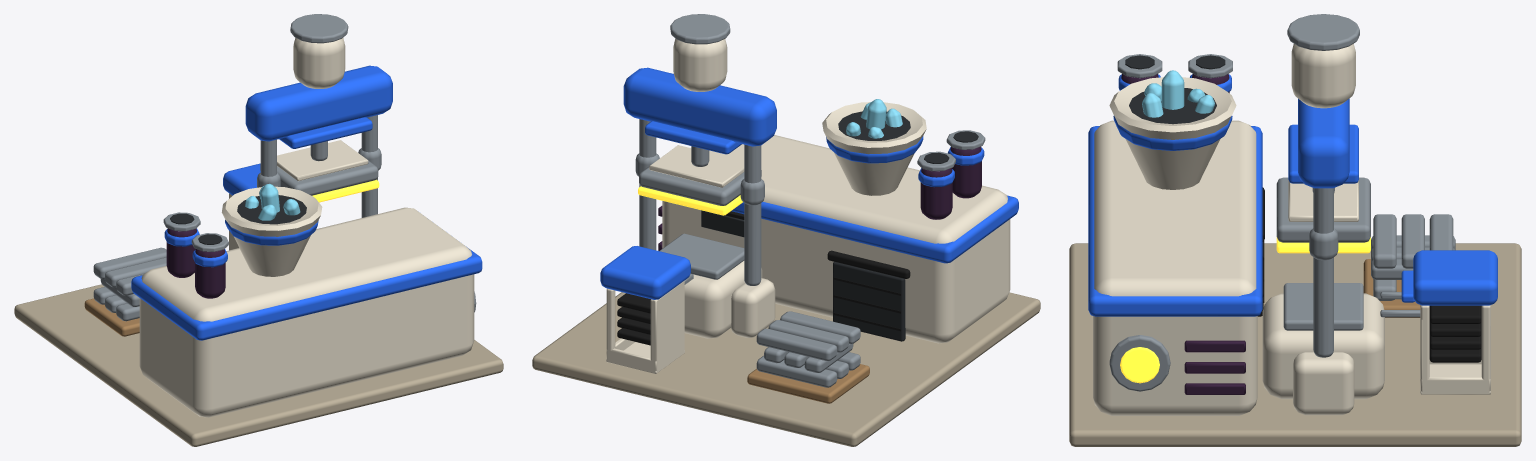
The model's file is composite_foundry.glb.
3 views of the same model, side by side, from view 1: azimuth 30°, elevation 25°; view 2: azimuth 150°, elevation 25°; view 3: azimuth 270°, elevation 25° (orthographic). The views are drawn at different scales.
Parts seen in each view (by area): view 1: stage_1__M_CreamPlastic, stage_0__M_SugarPad, stage_2__M_Team, stage_3__M_Team, stage_2__M_CreamPlastic, stage_1__M_SpringSteel, ram__M_SpringSteel, stage_2__M_SpringSteel, stage_3__M_CreamPlastic, stage_2__M_GrapeVent, ram__M_CreamPlastic, stage_3__M_SpringSteel (+4 smaller); view 2: stage_1__M_CreamPlastic, stage_0__M_SugarPad, stage_2__M_Team, stage_3__M_Team, stage_1__M_SpringSteel, stage_1__M_Dark, stage_2__M_SpringSteel, stage_2__M_CreamPlastic, ram__M_SpringSteel, stage_3__M_CreamPlastic, stage_2__M_GrapeVent, ram__M_CreamPlastic (+7 smaller); view 3: stage_1__M_CreamPlastic, stage_0__M_SugarPad, stage_2__M_Team, stage_1__M_SpringSteel, stage_2__M_CreamPlastic, stage_3__M_Team, stage_2__M_SpringSteel, stage_3__M_CreamPlastic, ram__M_SpringSteel, stack__M_Licorice, stage_1__M_GrapeVent, stage_3__M_SpringSteel (+7 smaller).
Part boxes in pixels (x1,y1,x2,y2): stage_1__M_CreamPlastic: [139, 193, 474, 417]; stage_0__M_SugarPad: [14, 284, 503, 446]; stage_2__M_Team: [131, 163, 482, 340]; stage_3__M_Team: [245, 65, 392, 148]; stage_2__M_CreamPlastic: [221, 186, 322, 276]; stage_1__M_SpringSteel: [93, 247, 476, 321]; ram__M_SpringSteel: [257, 141, 381, 195]; stage_2__M_SpringSteel: [163, 115, 377, 251]; stage_3__M_CreamPlastic: [293, 38, 345, 88]; stage_2__M_GrapeVent: [166, 228, 225, 298]; ram__M_CreamPlastic: [277, 140, 368, 181]; stage_3__M_SpringSteel: [290, 14, 348, 43]; stage_1__M_CreamPlastic: [606, 135, 1010, 371]; stage_0__M_SugarPad: [532, 292, 1040, 446]; stage_2__M_Team: [600, 136, 1018, 299]; stage_3__M_Team: [623, 67, 776, 154]; stage_1__M_SpringSteel: [659, 233, 860, 387]; stage_1__M_Dark: [701, 210, 905, 341]; stage_2__M_SpringSteel: [639, 119, 985, 285]; stage_2__M_CreamPlastic: [822, 102, 926, 195]; ram__M_SpringSteel: [635, 146, 764, 205]; stage_3__M_CreamPlastic: [673, 38, 727, 91]; stage_2__M_GrapeVent: [920, 146, 981, 219]; ram__M_CreamPlastic: [649, 145, 744, 187]; stage_1__M_CreamPlastic: [1093, 120, 1490, 415]; stage_0__M_SugarPad: [1069, 243, 1521, 446]; stage_2__M_Team: [1088, 74, 1497, 316]; stage_1__M_SpringSteel: [1109, 214, 1455, 391]; stage_2__M_CreamPlastic: [1109, 77, 1236, 189]; stage_3__M_Team: [1288, 98, 1358, 188]; stage_2__M_SpringSteel: [1117, 54, 1333, 357]; stage_3__M_CreamPlastic: [1291, 44, 1355, 108]; ram__M_SpringSteel: [1276, 177, 1370, 260]; stack__M_Licorice: [1429, 305, 1481, 362]; stage_1__M_GrapeVent: [1184, 340, 1245, 394]; stage_3__M_SpringSteel: [1287, 14, 1359, 50].
Bounding box in the file's own units: 1.92 × 1.73 × 1.92.
